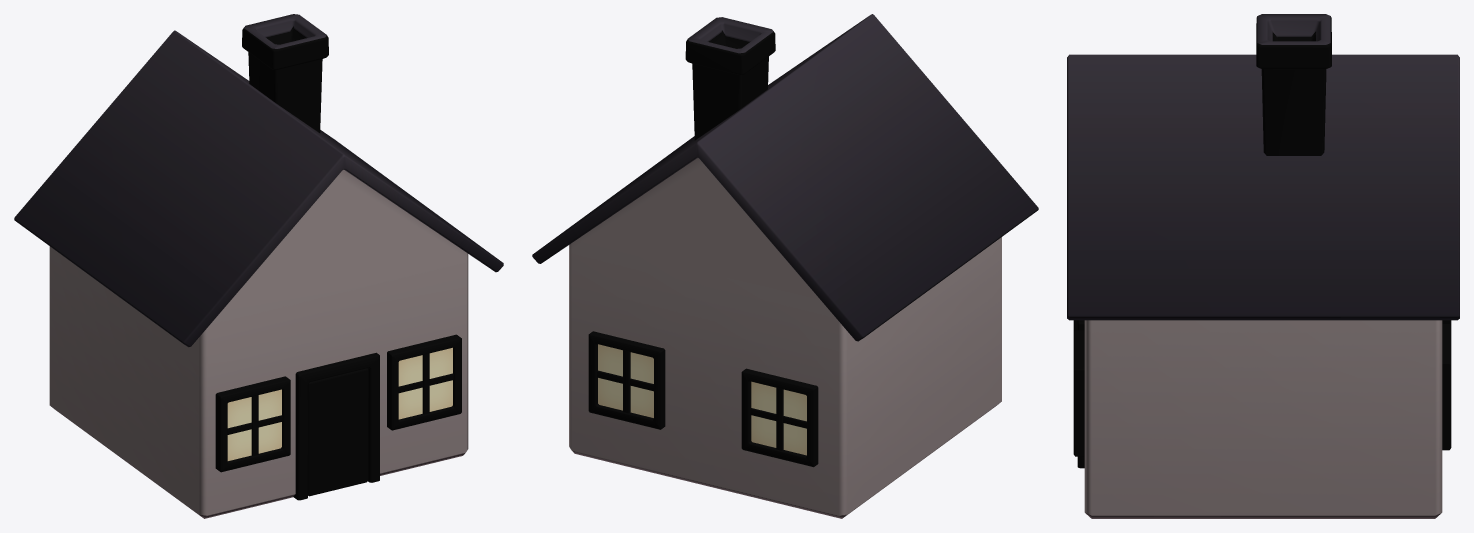
The model's file is mesh_houseBasic.fbx.
The picture shows the model from 3 angles, left to right: view 1: azimuth 30°, elevation 25°; view 2: azimuth 150°, elevation 25°; view 3: azimuth 270°, elevation 25°; orthographic projection. The views are drawn at different scales.
Visible parts, largest first — view 1: mesh_houseBasic; view 2: mesh_houseBasic; view 3: mesh_houseBasic.
Part boxes in pixels (x1,y1,x2,y2): mesh_houseBasic: [14, 14, 503, 518]; mesh_houseBasic: [532, 14, 1038, 518]; mesh_houseBasic: [1067, 14, 1459, 518].
Bounding box in the file's own units: 476 × 542 × 439.
1 material, 1 textured.
